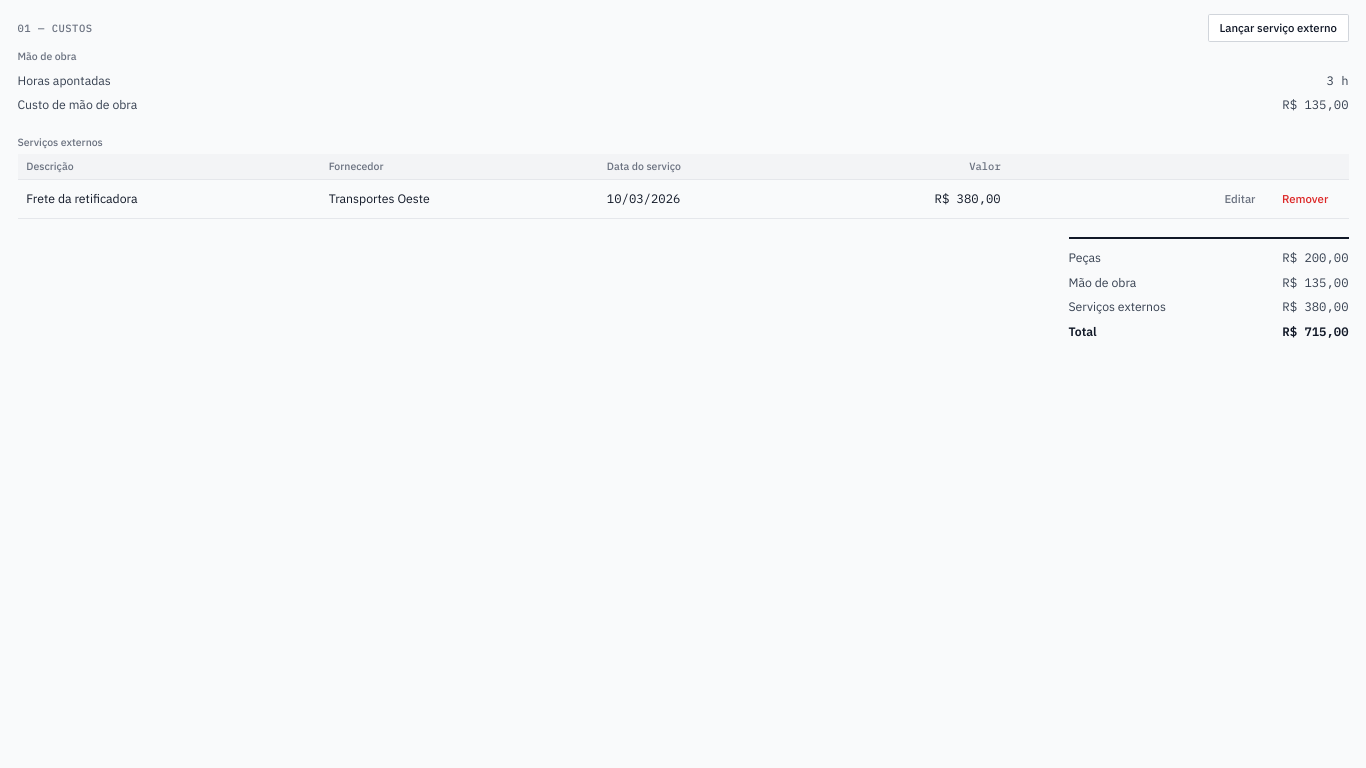
it: WorkOrderCostsSection › deve pedir confirmação antes de remover um serviço externo
This screenshot has width=1366, height=768.
Later steps or results of the test are not shown.
Click the button with aria-label "Remover Frete da retificadora".
click(1305, 199)  # box [1270, 185, 1340, 213]
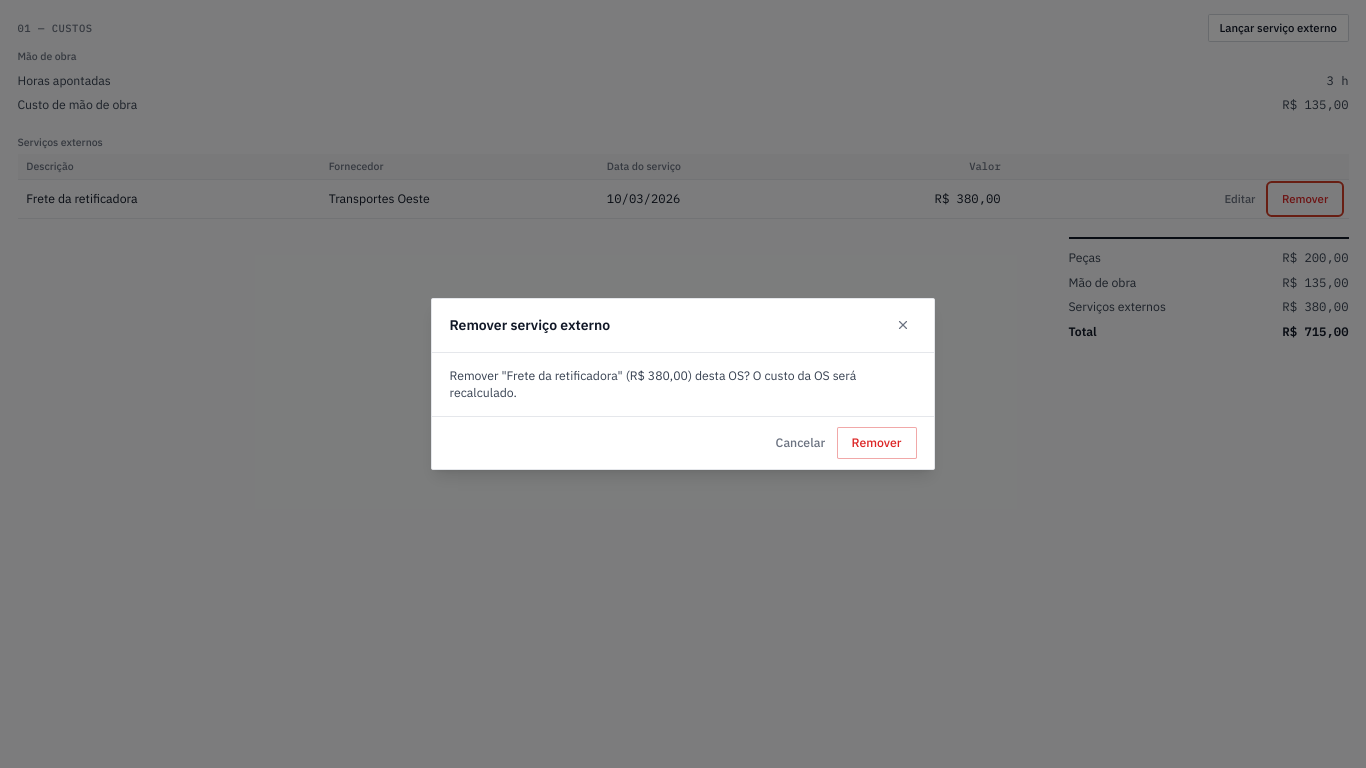
Now the dialog "Remover serviço externo" shows "Frete da retificadora", box [450, 366, 856, 400]
